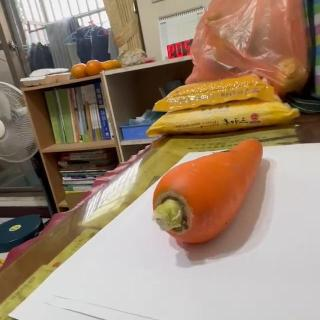carrot: (150, 138, 262, 244)
